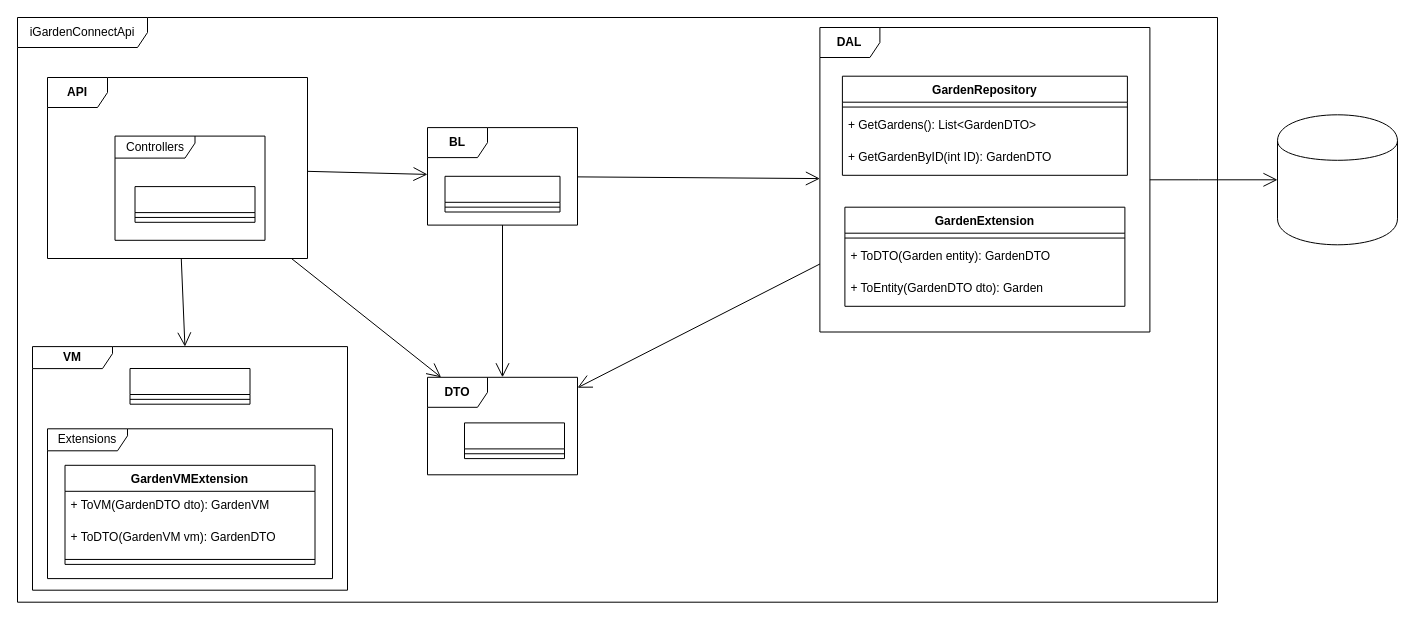
Image size: 1415x620. Some labels were removed from this diagram. The centre of each missing label's shape, as x and y in pixels:
"BDD iGardenConnect" goes at point (1337, 179).
"GardenController" goes at point (194, 204).
"GardenDTO" goes at point (514, 440).
"GardenService" goes at point (502, 193).
"GardenVM" goes at point (189, 386).
